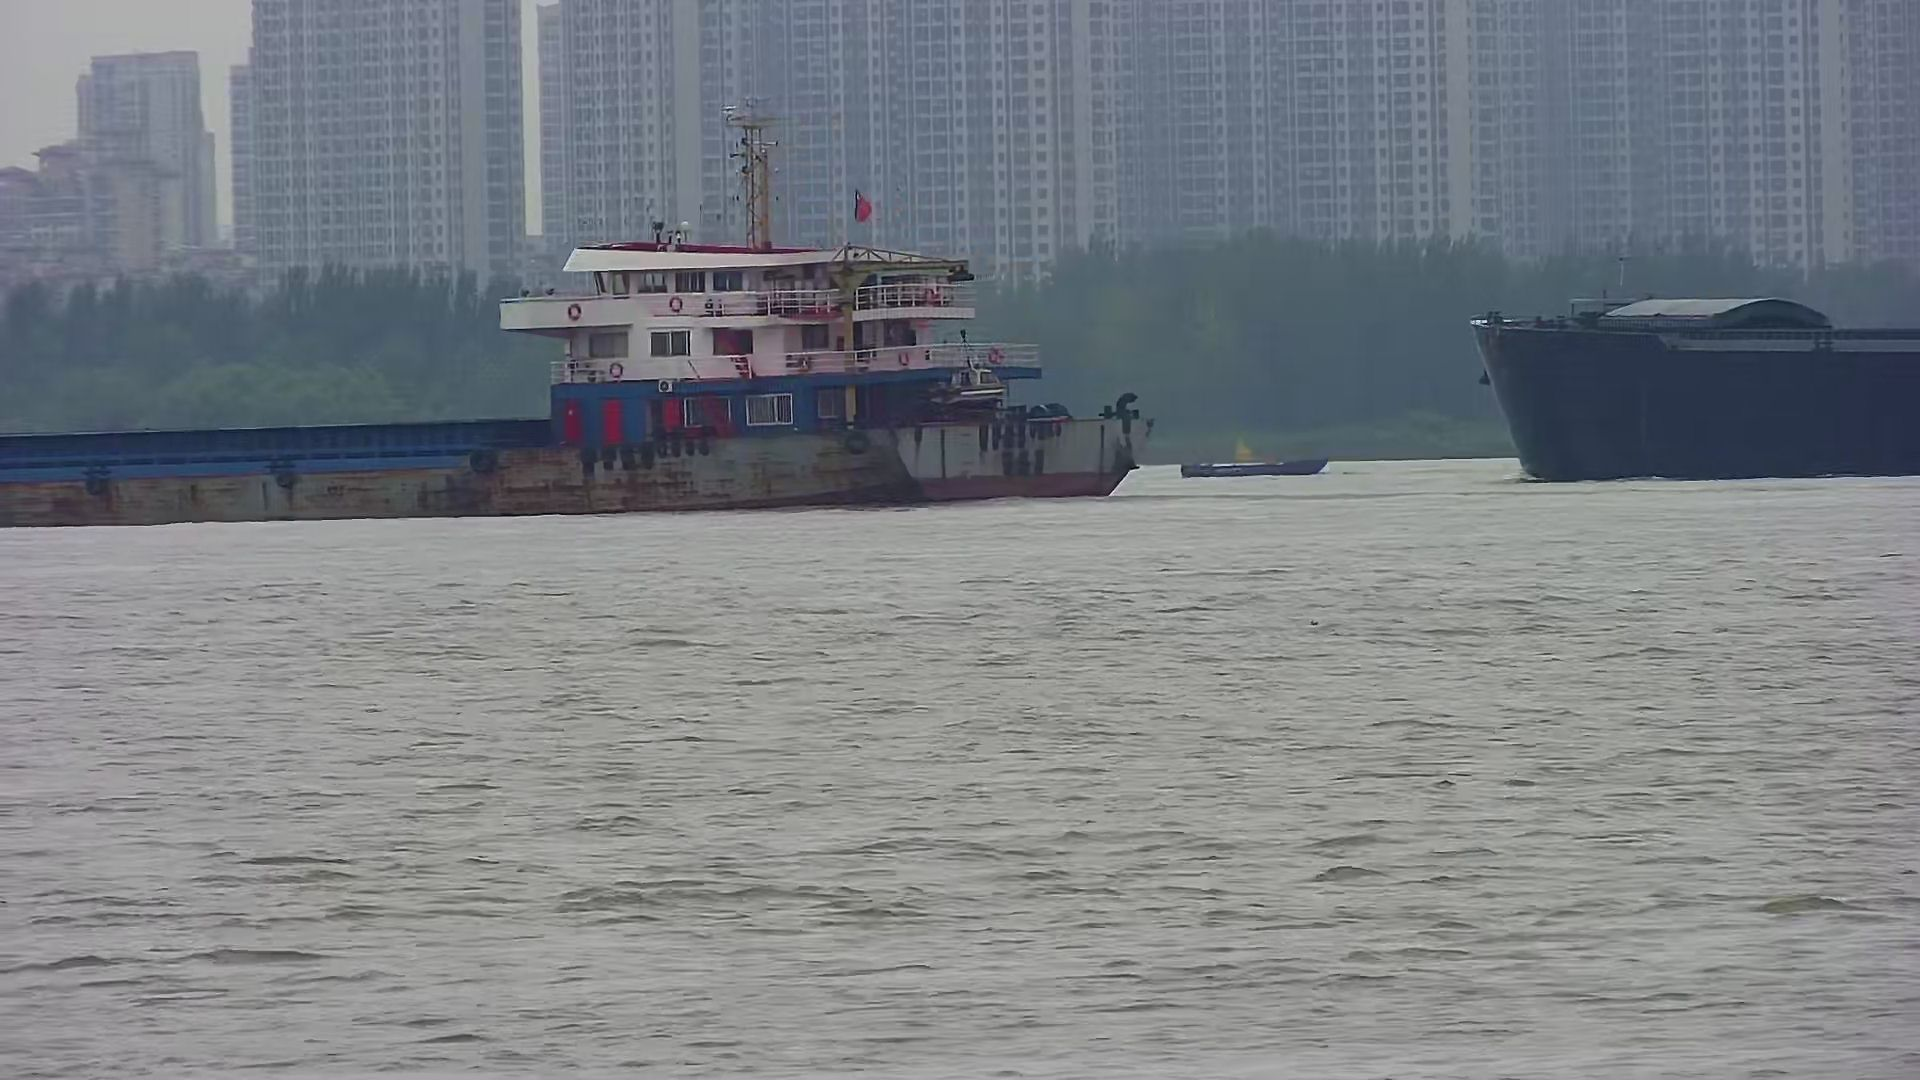boat: (1182, 435, 1333, 477)
ship: (1, 95, 1154, 527), (1472, 281, 1920, 484)
